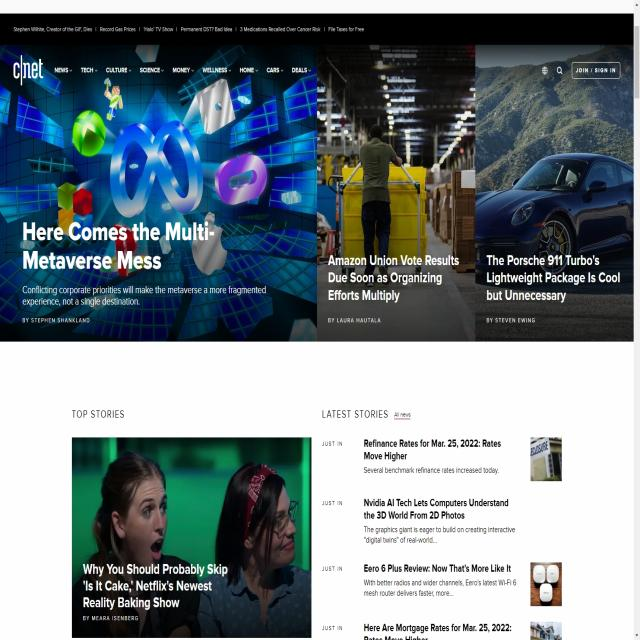menu-bar: (50, 60, 316, 79)
